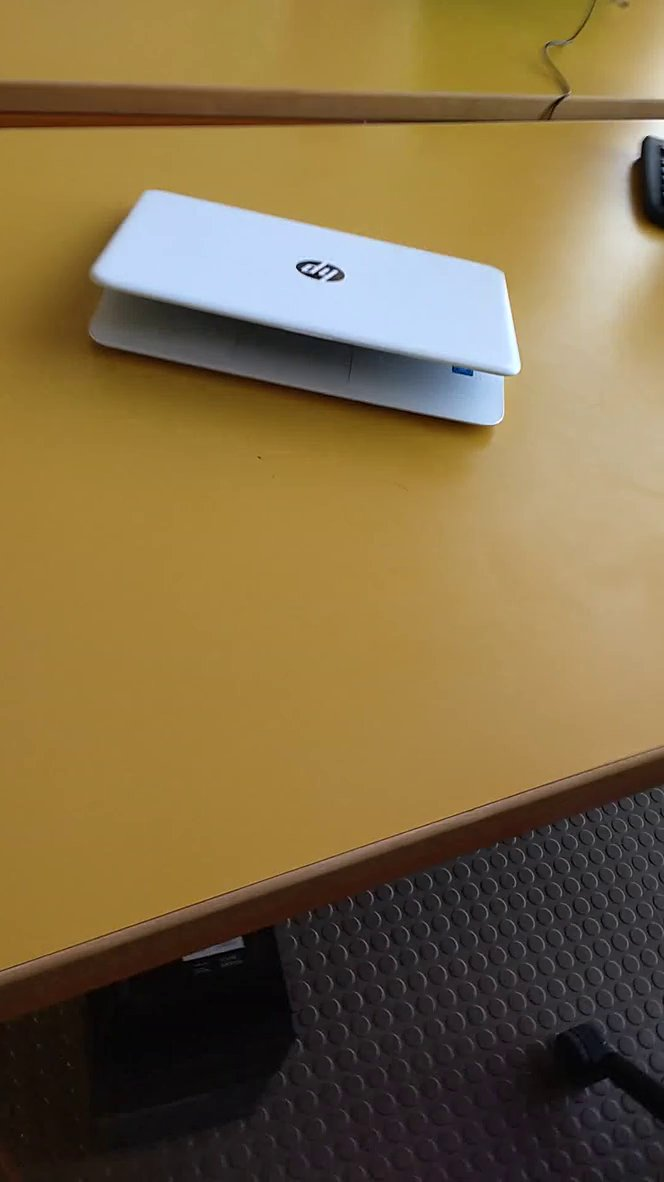laptop: (65, 173, 557, 455)
